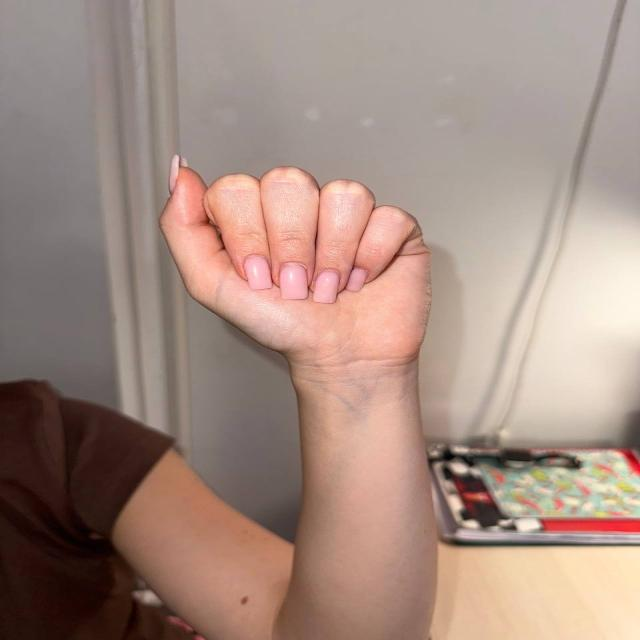a: (156, 142, 440, 342)
